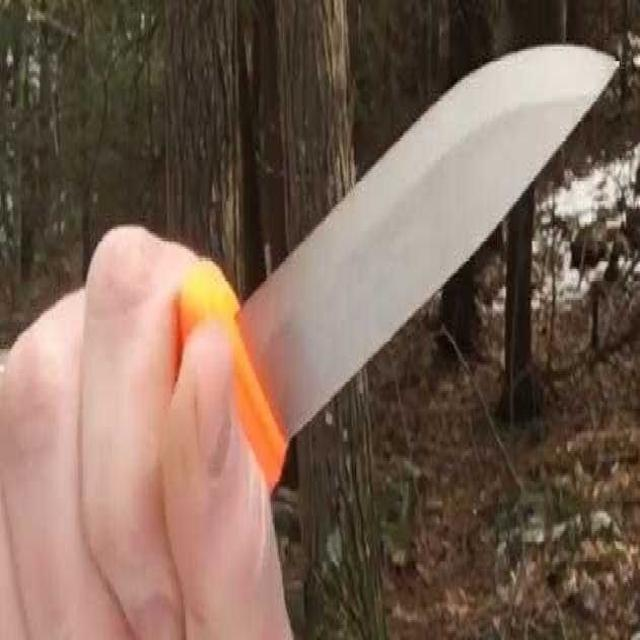Knife: (213, 14, 629, 544)
